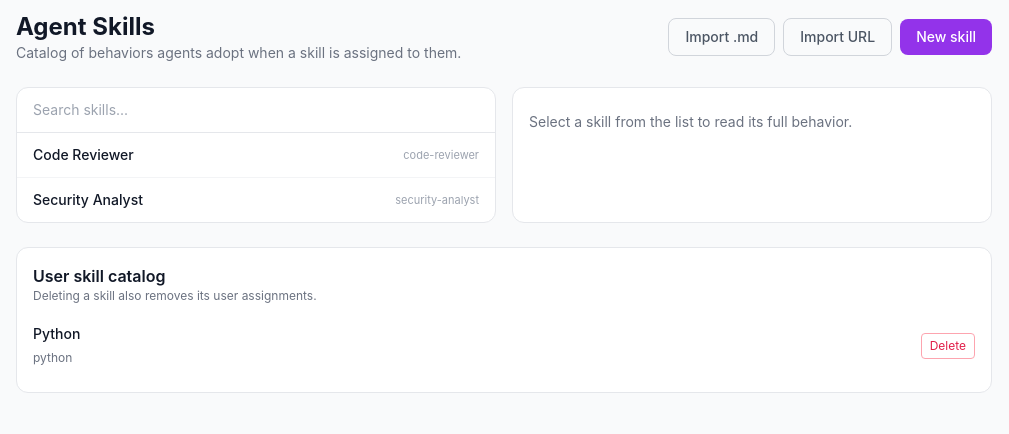
Test: AgentSkillsView (issue #610) › refreshes the user skill catalog after a 404
This screenshot has width=1009, height=434.
Click the button with aria-label "Delete Python" at (948, 346), box top-left (921, 333), bottom-right (975, 359)
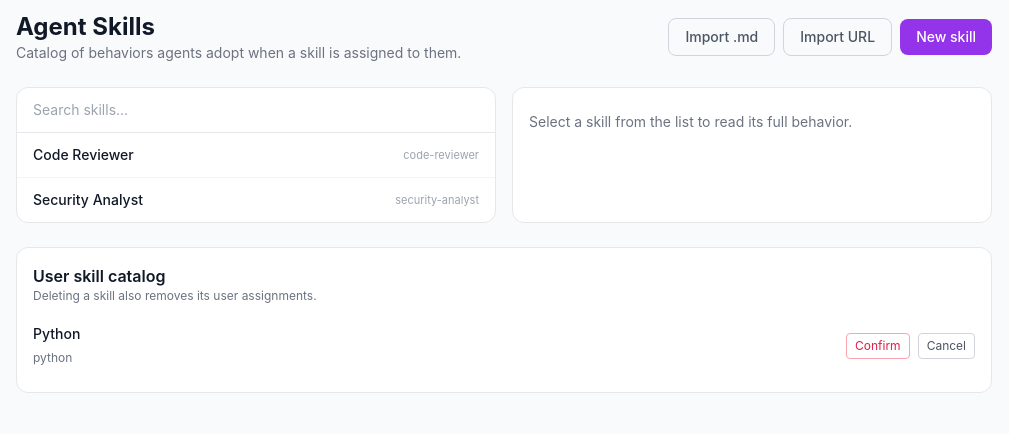
Click the button "Confirm" at (878, 346), box top-left (846, 333), bottom-right (910, 359)
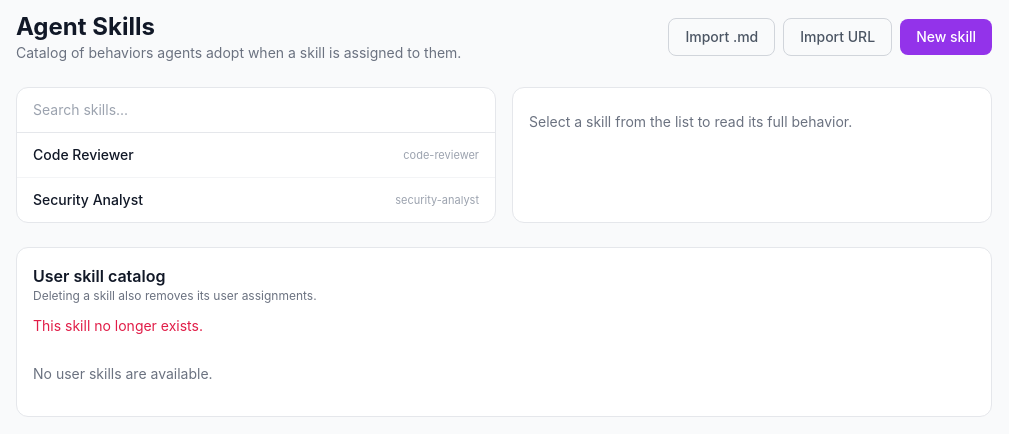
Check: the text "This skill no longer exists." is shown, box top-left (33, 317), bottom-right (203, 334)
Check: the text "Python" is gone
